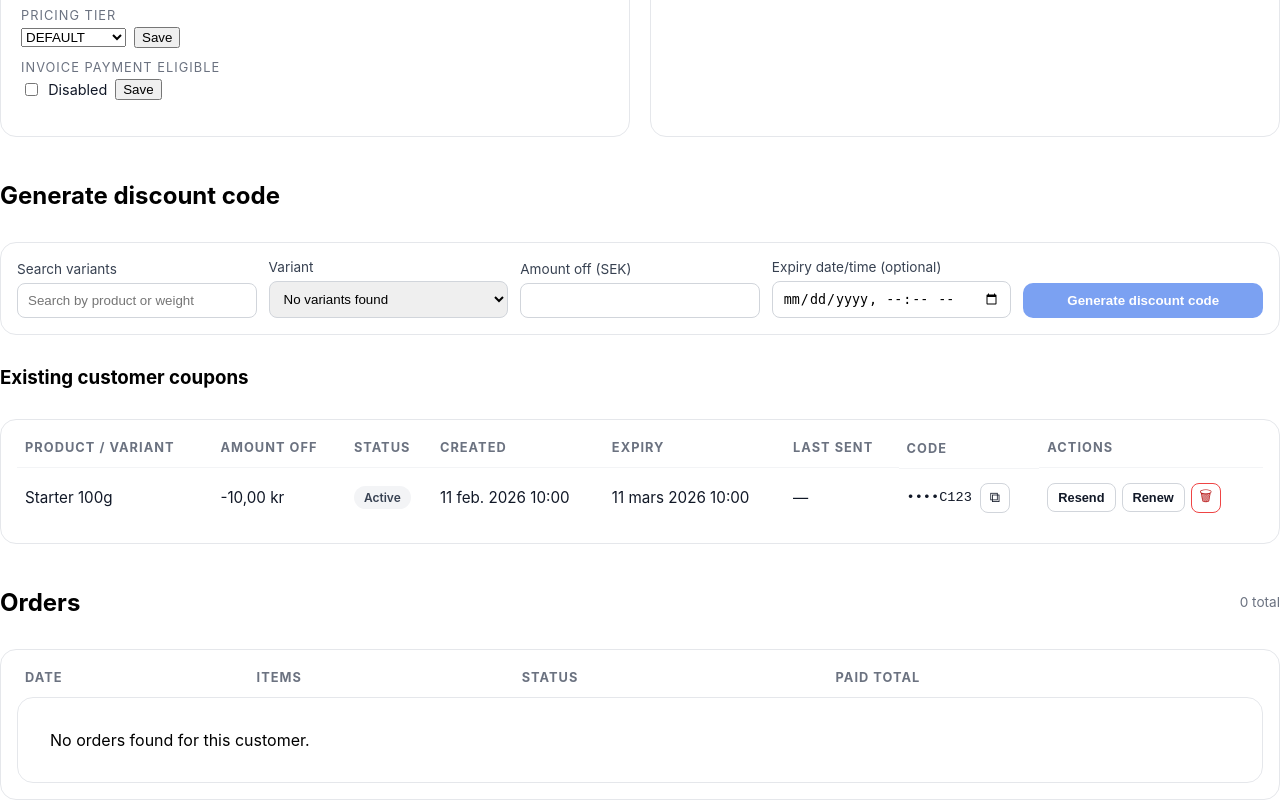
Scenario: CustomerDetails coupon resend behavior › opens renew modal automatically on COUPON_CODE_NOT_AVAILABLE resend error
(page scrolled)
Click the button "Resend".
click(1081, 498)  # box [1047, 483, 1116, 512]
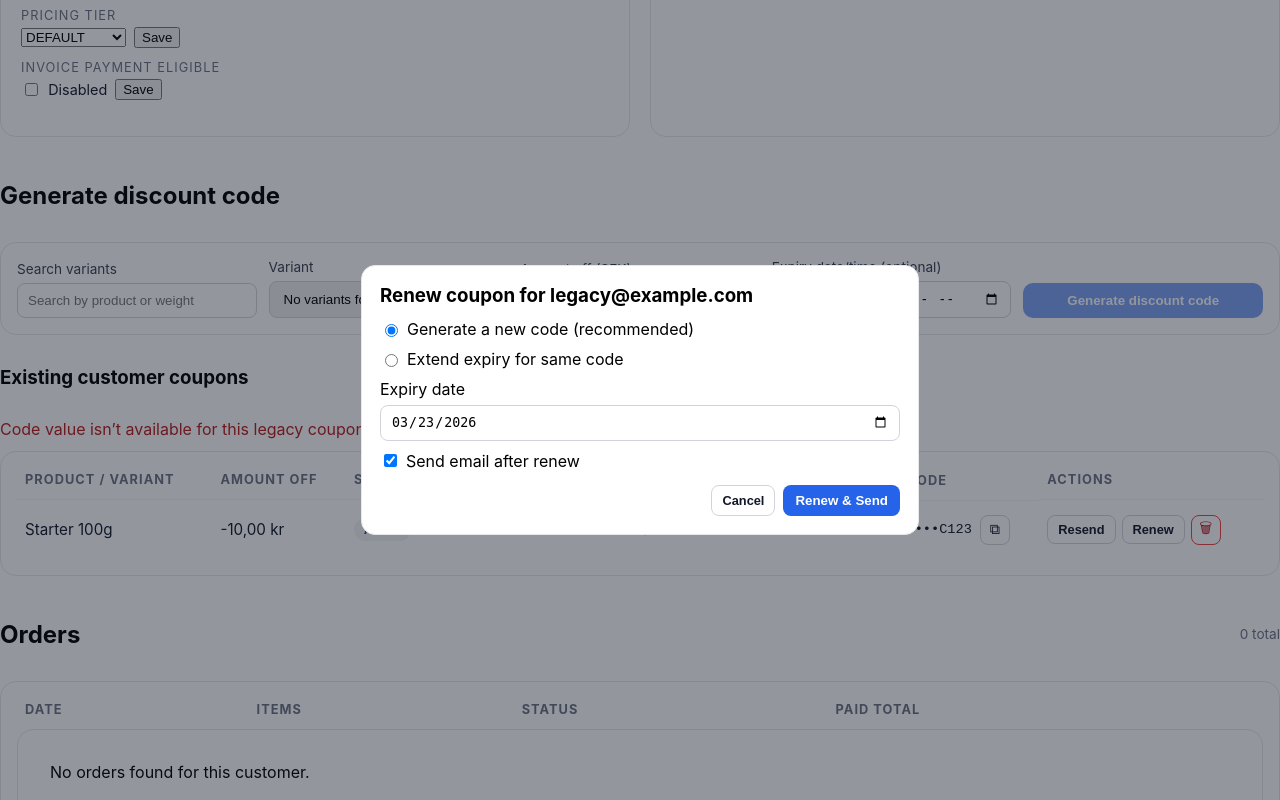
Check: the dialog "Renew coupon" is shown, box [361, 265, 919, 535]
Check: the text "Code value isn’t available for this legacy coupon. Use Renew to generate a new code." is shown, box [0, 419, 647, 439]
